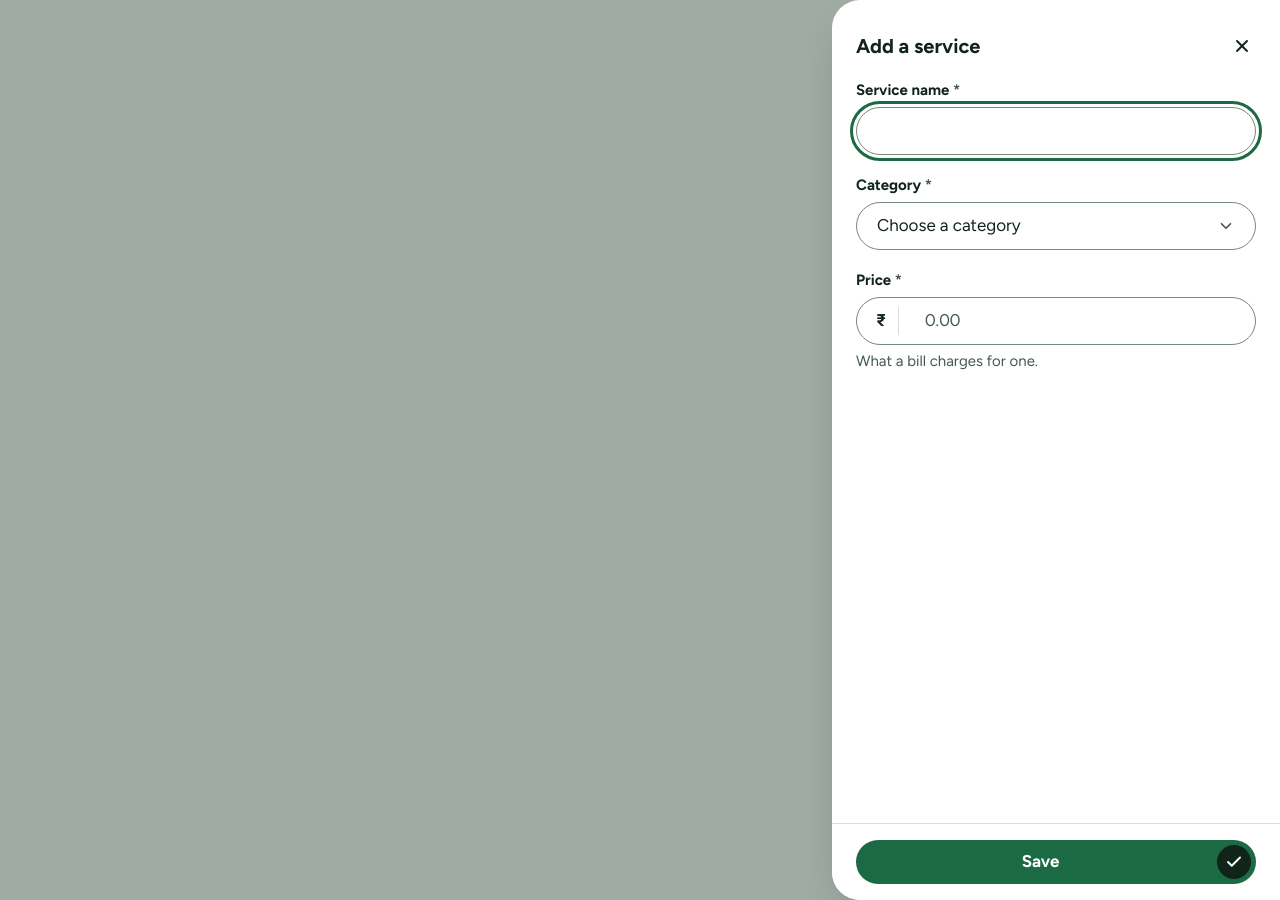
Test: ServiceSheet (plan §9) › says what is missing, beside each field, and sends nothing
Click the button "Save" at (1056, 862), box x1=856 y1=840 x2=1256 y2=884
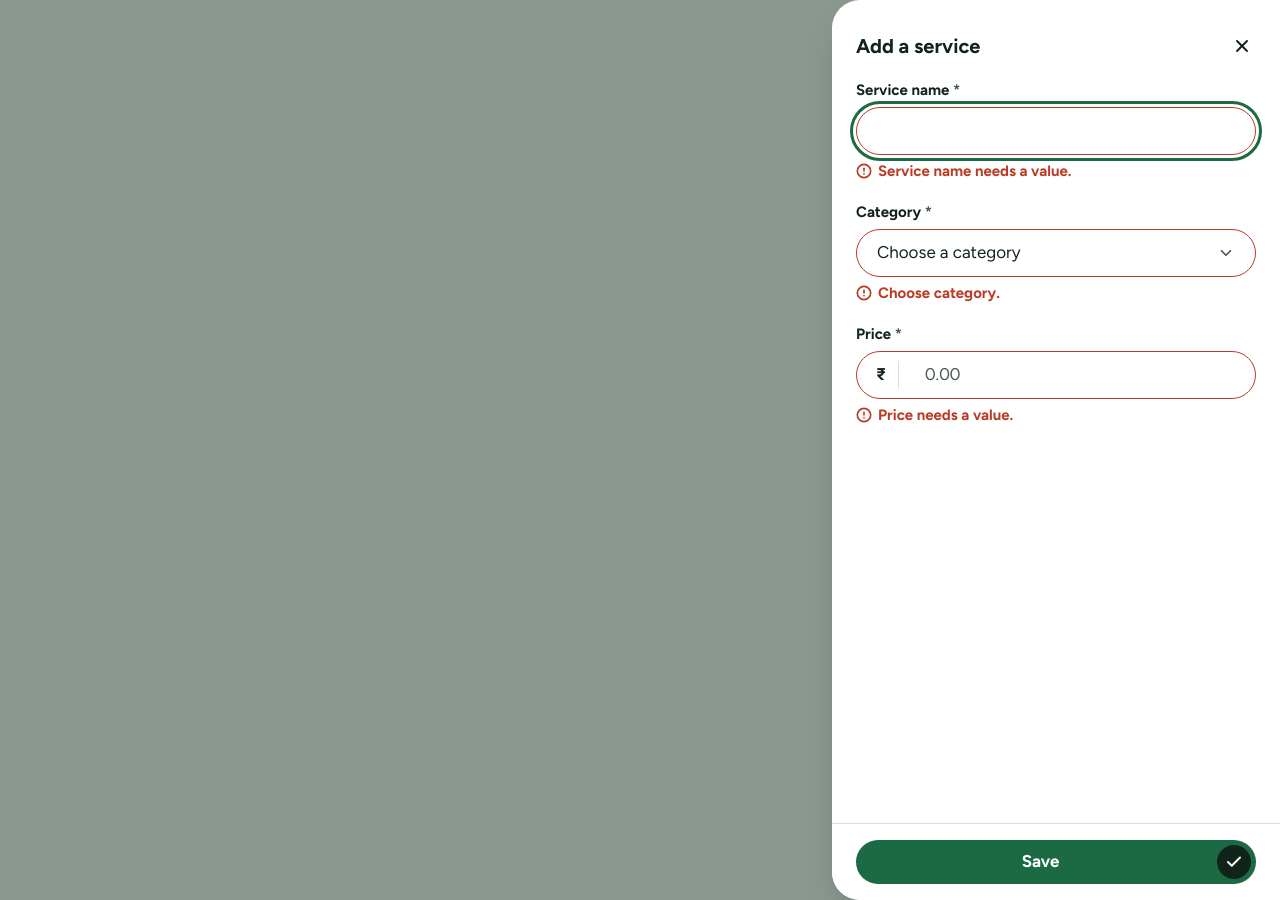
Expected: the text "Service name needs a value." is shown, x1=856 y1=162 x2=1072 y2=180
Expected: the text "Choose category." is shown, x1=856 y1=284 x2=1000 y2=302
Expected: the text "Price needs a value." is shown, x1=856 y1=406 x2=1013 y2=424
